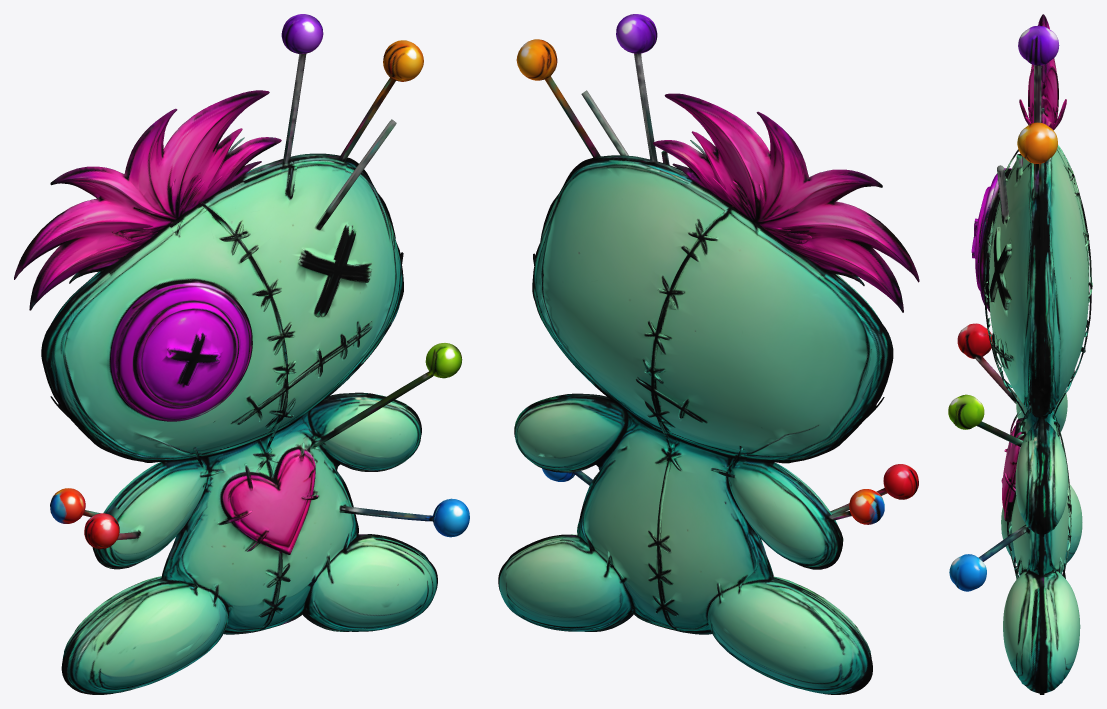
File: pixellabs-voodoo-doll-3469.high.glb
The picture shows the model from 3 angles, left to right: view 1: azimuth 30°, elevation 25°; view 2: azimuth 150°, elevation 25°; view 3: azimuth 270°, elevation 25°; orthographic projection. The views are drawn at different scales.
Visible parts, largest first — view 1: material; view 2: material; view 3: material.
Part boxes in pixels (x1,y1,x2,y2): material: (14,14,469,694); material: (498,14,919,694); material: (948,14,1092,694).
Size of the model in its own units: 0.7161 by 1.02 by 0.2173.
1 material, 1 textured.
